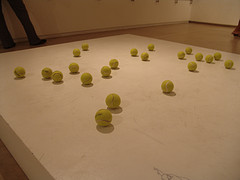tennis ball: (94, 107, 112, 127), (105, 93, 122, 108), (160, 79, 175, 94), (99, 65, 112, 79), (52, 70, 64, 85), (81, 71, 92, 86), (68, 61, 79, 75), (205, 52, 215, 67), (108, 58, 120, 70), (139, 51, 151, 63), (41, 67, 52, 79), (80, 41, 91, 53), (184, 45, 195, 56), (187, 61, 198, 72), (14, 67, 26, 77), (194, 51, 204, 63), (223, 60, 234, 70), (177, 50, 186, 61), (214, 51, 222, 62), (130, 48, 139, 57), (147, 43, 155, 52), (73, 49, 79, 58)
